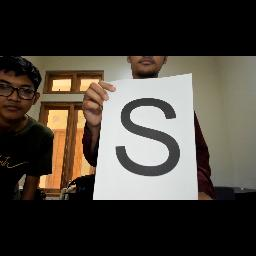s: (110, 96, 186, 178)
